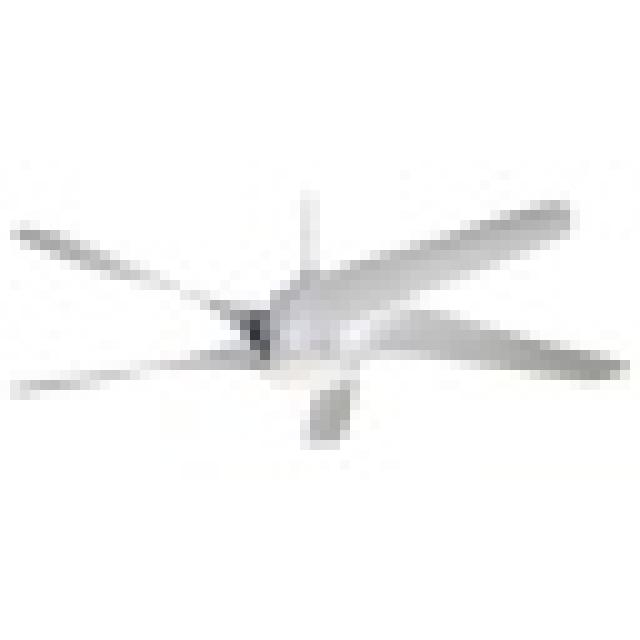Bulb: (14, 186, 640, 505)
